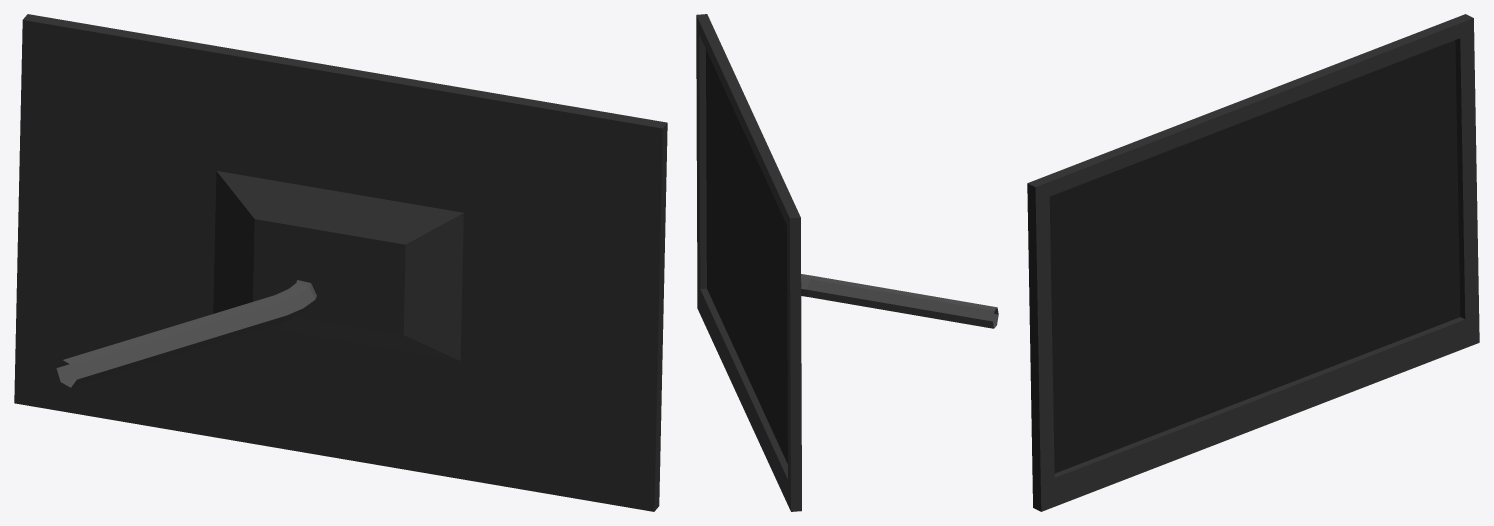
Rendered from Television_Derecha_Escenario2.fbx.
The picture shows the model from 3 angles, left to right: view 1: azimuth 30°, elevation 25°; view 2: azimuth 150°, elevation 25°; view 3: azimuth 270°, elevation 25°; orthographic projection. The views are drawn at different scales.
Parts seen in each view (by area): view 1: TV_2_Iz; view 2: TV_2_Iz; view 3: TV_2_Iz.
Part boxes in pixels (x1,y1,x2,y2): TV_2_Iz: (14,14,667,511); TV_2_Iz: (696,14,998,511); TV_2_Iz: (1027,14,1479,511).
Size of the model in its own units: 114 by 86.39 by 105.
